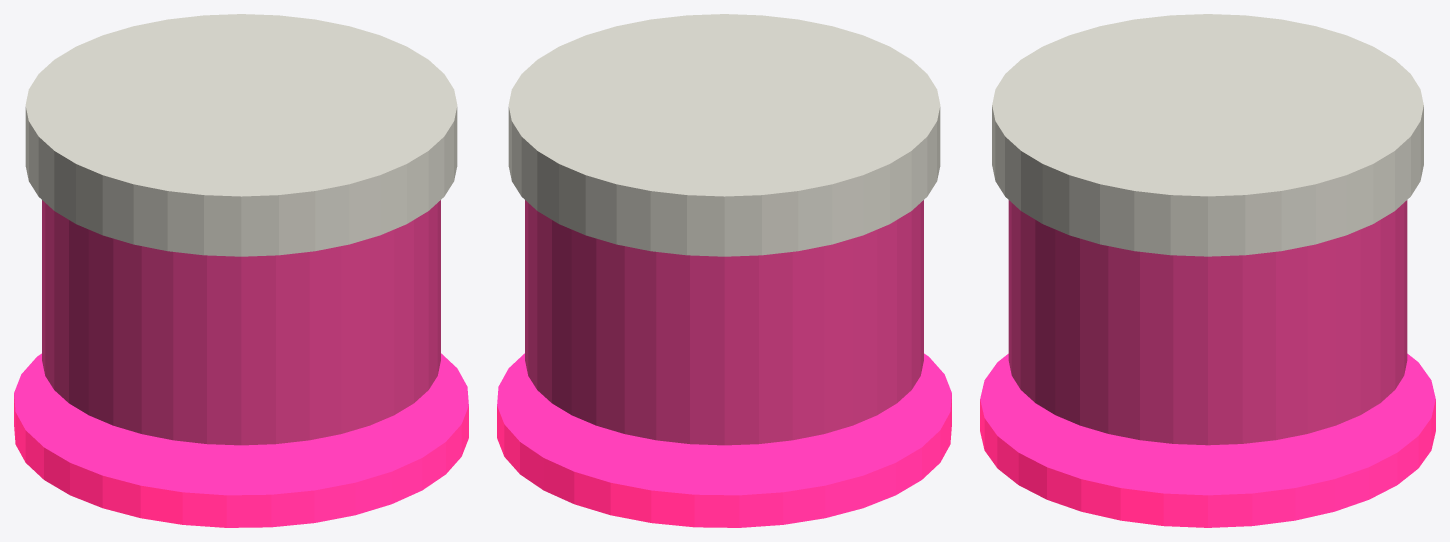
The model's file is beauty_cream_jar.dae.
The picture shows the model from 3 angles, left to right: view 1: azimuth 30°, elevation 25°; view 2: azimuth 150°, elevation 25°; view 3: azimuth 270°, elevation 25°; orthographic projection.
Parts seen in each view (by area): view 1: 03_08_Popular_Beauty_Cream_Jar_part_02, 03_08_Popular_Beauty_Cream_Jar_part_01, 03_08_Popular_Beauty_Cream_Jar_ROOT_base; view 2: 03_08_Popular_Beauty_Cream_Jar_part_02, 03_08_Popular_Beauty_Cream_Jar_part_01, 03_08_Popular_Beauty_Cream_Jar_ROOT_base; view 3: 03_08_Popular_Beauty_Cream_Jar_part_02, 03_08_Popular_Beauty_Cream_Jar_part_01, 03_08_Popular_Beauty_Cream_Jar_ROOT_base.
Boxes of the visible parts, x1,y1,x2,y2 form: 03_08_Popular_Beauty_Cream_Jar_part_02: (25,14,457,256); 03_08_Popular_Beauty_Cream_Jar_part_01: (42,200,440,445); 03_08_Popular_Beauty_Cream_Jar_ROOT_base: (14,353,468,527); 03_08_Popular_Beauty_Cream_Jar_part_02: (508,14,940,256); 03_08_Popular_Beauty_Cream_Jar_part_01: (525,200,923,445); 03_08_Popular_Beauty_Cream_Jar_ROOT_base: (497,353,951,527); 03_08_Popular_Beauty_Cream_Jar_part_02: (992,14,1423,256); 03_08_Popular_Beauty_Cream_Jar_part_01: (1008,200,1407,445); 03_08_Popular_Beauty_Cream_Jar_ROOT_base: (980,353,1435,527).
Bounding box in the file's own units: 0.76 × 0.6008 × 0.76.
